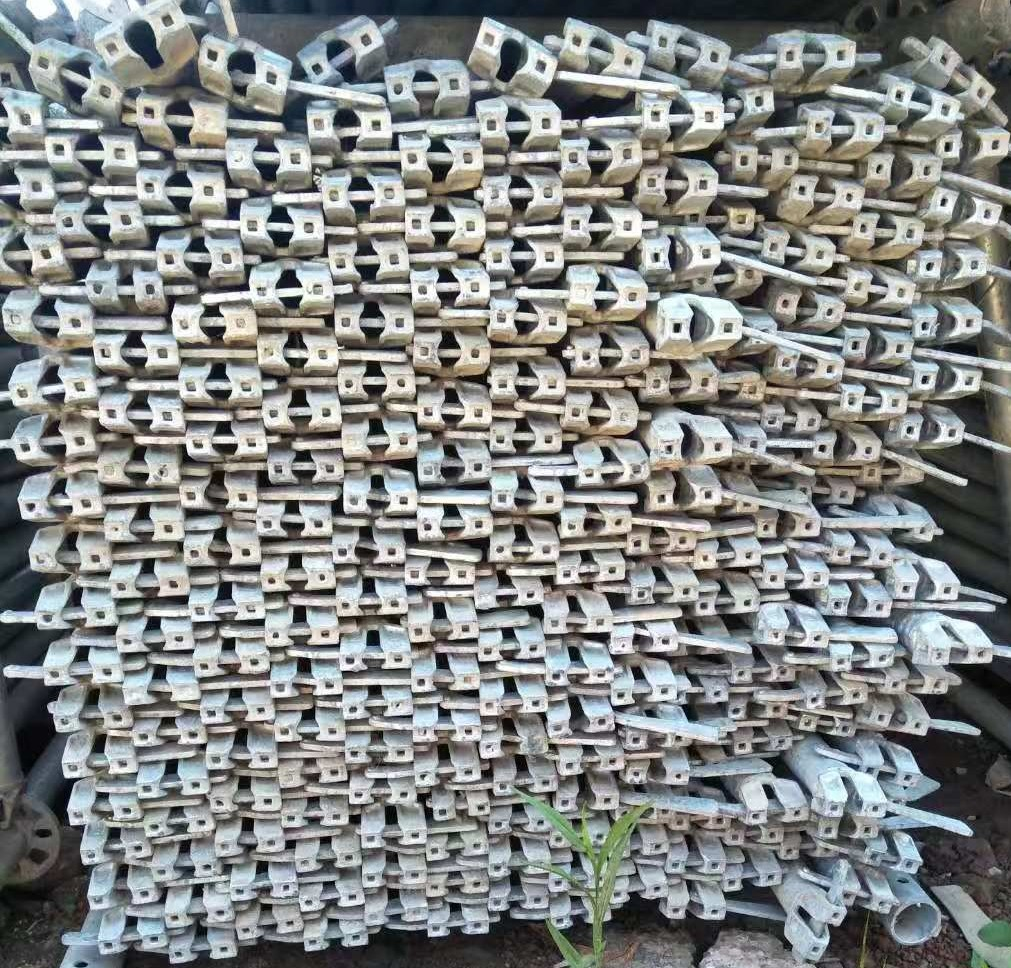THsquare_steel: (90, 7, 199, 72), (467, 15, 560, 91), (655, 300, 743, 348), (648, 427, 736, 466), (884, 558, 959, 603), (906, 245, 986, 287), (638, 474, 724, 512), (926, 183, 995, 230), (819, 583, 891, 624), (932, 128, 1011, 165), (911, 304, 982, 345), (900, 364, 982, 398), (898, 411, 960, 449), (866, 700, 928, 738), (625, 760, 690, 788)
THsquare_steel_blocked: (24, 40, 124, 120), (195, 35, 288, 111), (912, 34, 996, 110), (561, 21, 647, 89), (639, 22, 731, 83), (292, 19, 382, 81), (126, 88, 224, 143), (374, 61, 470, 116), (561, 263, 648, 319), (765, 31, 854, 84), (314, 170, 406, 220), (236, 201, 325, 252), (397, 200, 485, 251), (5, 296, 93, 347), (797, 102, 886, 152), (136, 166, 228, 214), (252, 264, 335, 317), (633, 94, 723, 140), (631, 162, 721, 208), (871, 78, 959, 125), (47, 200, 145, 242), (557, 204, 643, 251), (781, 170, 865, 218), (484, 295, 566, 344), (299, 105, 394, 147), (9, 363, 95, 409), (479, 169, 563, 216), (473, 99, 560, 144), (153, 236, 244, 279), (252, 330, 340, 374), (19, 535, 111, 577), (223, 139, 313, 181), (166, 306, 257, 347), (405, 266, 491, 309), (174, 364, 263, 405), (43, 136, 139, 174), (552, 138, 638, 180), (83, 270, 165, 314), (756, 223, 831, 271), (90, 395, 184, 433), (321, 239, 408, 280), (561, 335, 648, 376), (22, 478, 101, 522), (786, 894, 842, 956), (1, 233, 73, 281), (397, 144, 485, 183), (839, 267, 917, 311), (33, 592, 116, 633), (7, 422, 94, 461), (87, 334, 176, 372), (849, 740, 922, 786), (326, 306, 415, 343), (768, 283, 844, 326), (565, 393, 638, 437), (850, 210, 924, 253), (719, 141, 798, 181), (53, 694, 130, 735), (488, 238, 566, 278), (44, 650, 129, 686), (94, 453, 179, 489), (765, 343, 843, 382), (642, 364, 717, 404), (259, 395, 340, 431), (485, 364, 566, 400), (575, 450, 653, 487), (693, 261, 765, 300), (408, 338, 490, 372), (107, 567, 184, 603), (187, 428, 266, 463), (741, 782, 808, 823), (326, 532, 406, 566), (821, 777, 887, 817), (60, 747, 137, 781), (101, 512, 180, 545), (185, 586, 264, 619), (920, 631, 992, 667), (622, 524, 697, 558), (259, 562, 336, 595), (65, 790, 136, 825), (756, 615, 829, 649), (179, 477, 254, 510), (680, 202, 757, 234), (186, 535, 263, 567), (79, 831, 149, 866), (336, 366, 415, 397), (270, 455, 344, 488), (608, 622, 677, 657), (81, 876, 154, 909), (341, 426, 414, 459), (828, 881, 898, 915), (538, 658, 614, 689), (198, 698, 271, 730), (413, 512, 496, 540), (259, 506, 327, 540), (877, 667, 951, 698), (198, 645, 267, 678), (159, 893, 230, 925), (625, 574, 698, 605), (487, 485, 565, 514), (856, 840, 922, 874), (418, 399, 490, 430), (833, 385, 905, 416), (413, 455, 489, 484), (148, 848, 220, 878), (757, 401, 822, 434), (271, 616, 338, 648), (564, 507, 631, 539), (485, 536, 558, 565), (859, 458, 923, 491), (348, 485, 416, 516), (208, 787, 283, 815), (208, 743, 280, 772), (338, 644, 412, 672), (272, 667, 341, 697), (273, 715, 342, 745), (831, 640, 893, 673), (732, 656, 798, 687), (693, 542, 763, 571), (99, 929, 164, 960), (491, 425, 560, 454), (542, 710, 611, 739), (760, 562, 831, 590), (127, 722, 206, 747), (210, 831, 285, 857), (802, 680, 869, 709), (830, 537, 897, 566), (136, 767, 205, 795), (549, 560, 623, 586), (120, 626, 191, 653), (340, 588, 408, 616), (542, 612, 610, 640), (355, 822, 428, 848), (296, 843, 357, 874), (482, 634, 545, 664), (790, 478, 857, 506), (342, 695, 414, 721), (358, 867, 430, 893), (696, 589, 758, 619), (233, 872, 299, 900), (480, 688, 546, 716), (793, 712, 859, 740), (236, 911, 304, 938), (668, 846, 729, 876), (776, 835, 839, 864), (488, 771, 557, 797), (549, 786, 618, 812), (628, 724, 692, 752), (484, 733, 547, 761), (725, 863, 785, 892), (615, 676, 677, 704), (725, 730, 794, 755), (415, 764, 483, 789), (557, 752, 625, 777), (305, 884, 365, 912), (608, 875, 668, 903), (407, 562, 474, 587), (347, 780, 411, 806), (413, 617, 477, 643), (173, 941, 234, 968), (285, 803, 348, 829), (143, 812, 212, 835), (282, 762, 345, 787), (344, 743, 412, 766), (418, 719, 479, 744), (476, 587, 545, 609), (427, 914, 490, 938), (303, 928, 365, 952), (431, 799, 490, 823), (429, 837, 490, 860), (426, 876, 492, 897), (419, 671, 478, 694), (489, 813, 553, 834), (726, 825, 788, 846), (493, 855, 545, 878), (488, 893, 548, 912), (666, 812, 729, 830)
